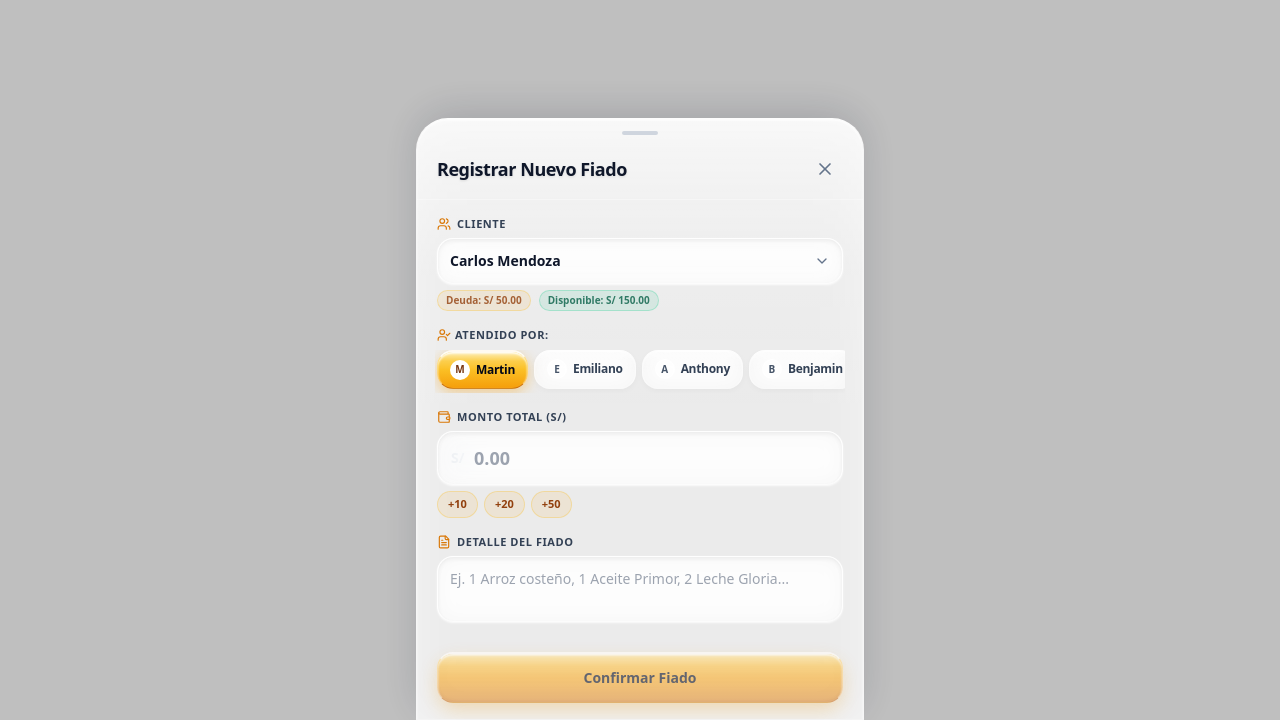
Test case: QuickCreditModal - Cashier Selection & Fiado Flow › lists only active-store customers in the picker (T3)
Expected: the text "Carlos Mendoza" is shown, [450,251,561,271]
Click the button with aria-label "cliente: carlos mendoza" at [505, 260], box [437,238,843,284]
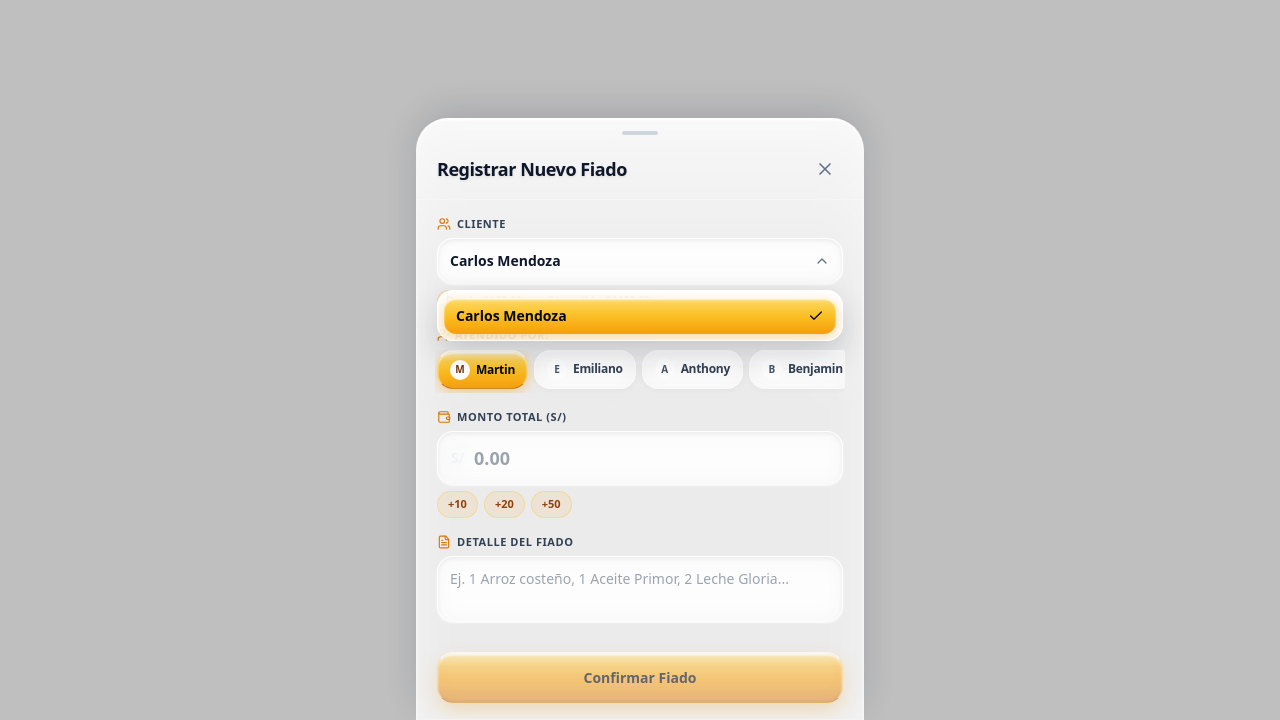
Result: the list is shown at [438,292,842,340]
Result: the option "Carlos Mendoza" is shown at [444,298,836,334]
